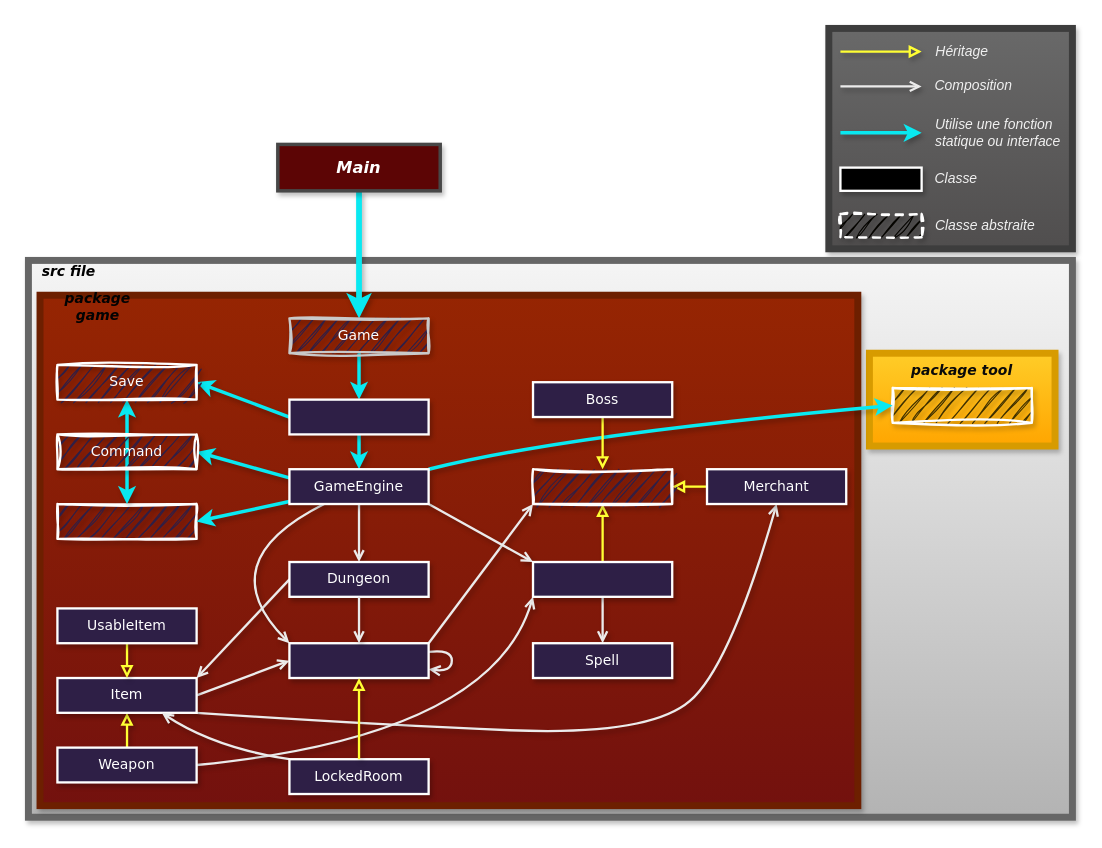
Some shapes in this 1102 by 848 pixel diagram are drawn without their labels. The shapes that lost their labels are listed below. From the top down, each one's centre as x and y in pixels, then its label:
the point at 359,418: GameConfig
the point at 962,407: Rand
the point at 603,488: Person
the point at 127,523: CommandList
the point at 603,581: Hero
the point at 359,662: Room
